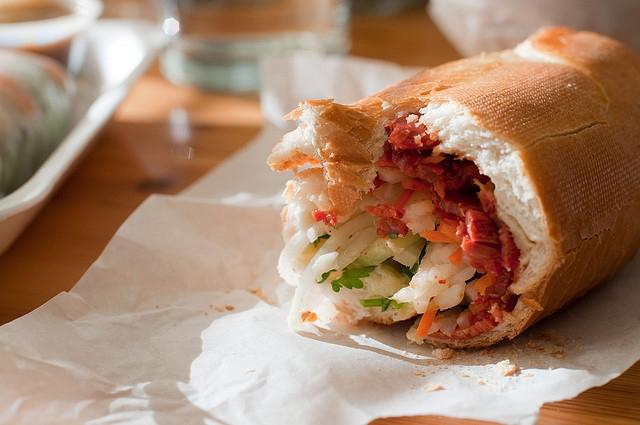carrot: (460, 237, 503, 262), (416, 310, 438, 338), (439, 219, 462, 243), (473, 274, 496, 294), (448, 248, 462, 266)
